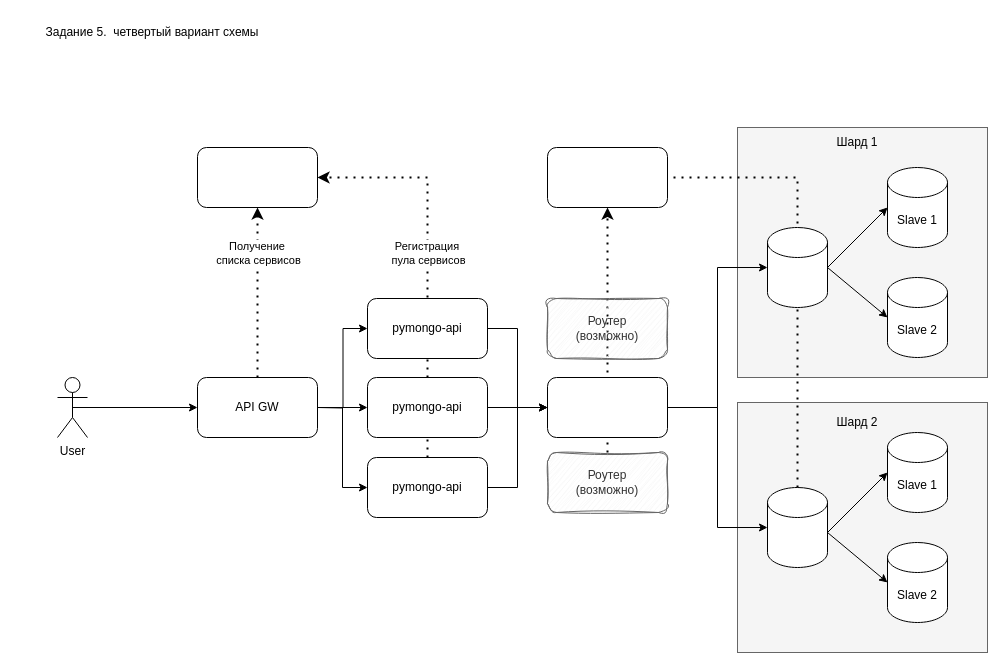
This 1005x670 diagram has some shape labels left out. The shapes that lost their labels are listed below. From the top down, each one's box as (x1, y1, x2, y2) in pixels, then its label:
(196, 146, 318, 208): Consul
(546, 146, 668, 208): Сервис конфигурации MongoDB
(766, 226, 828, 308): Шард 1 Мастер
(546, 376, 668, 438): Роутер
(766, 486, 828, 568): Шард 2 Мастер
